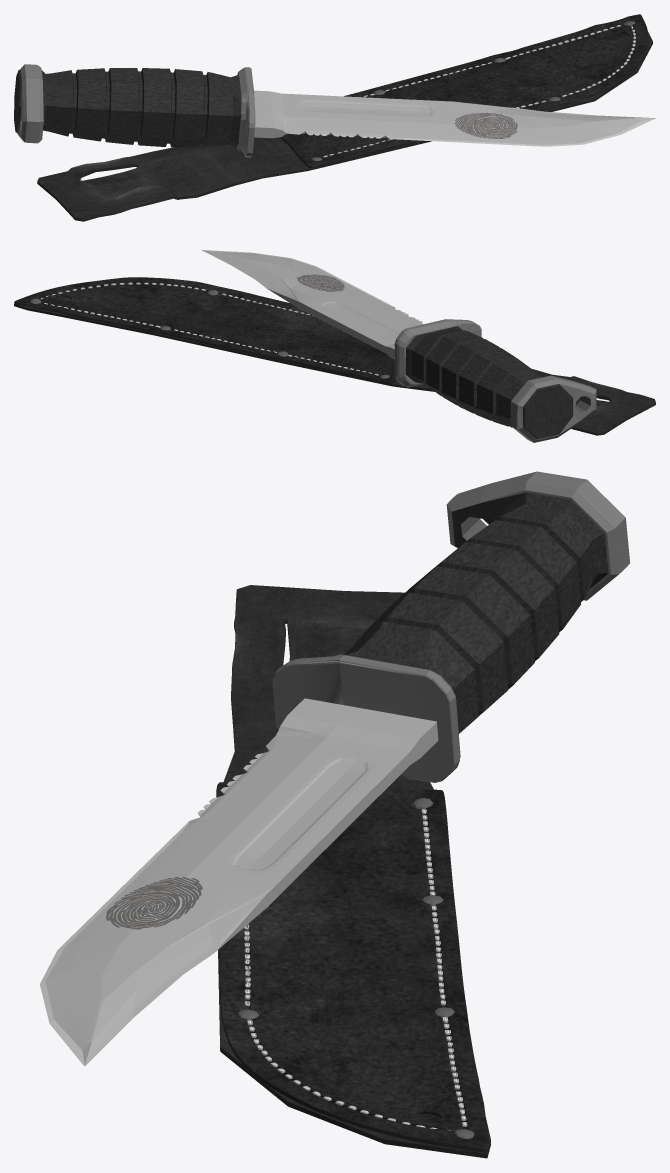
File: Fingerprints.gltf
The picture shows the model from 3 angles, top to bottom: view 1: azimuth 30°, elevation 25°; view 2: azimuth 150°, elevation 25°; view 3: azimuth 270°, elevation 25°; orthographic projection. The views are drawn at different scales.
Parts seen in each view (by area): view 1: KA-BAR_USMC_black_knife.001, KA-BAR_USMC_black_knife, Fingerprint; view 2: KA-BAR_USMC_black_knife, KA-BAR_USMC_black_knife.001, Fingerprint; view 3: KA-BAR_USMC_black_knife.001, KA-BAR_USMC_black_knife, Fingerprint.
Boxes of the visible parts, x1,y1,x2,y2 form: KA-BAR_USMC_black_knife.001: [14, 64, 655, 157]; KA-BAR_USMC_black_knife: [37, 14, 652, 221]; Fingerprint: [455, 112, 517, 138]; KA-BAR_USMC_black_knife: [14, 277, 655, 435]; KA-BAR_USMC_black_knife.001: [202, 250, 596, 442]; Fingerprint: [296, 274, 344, 291]; KA-BAR_USMC_black_knife.001: [40, 471, 629, 1065]; KA-BAR_USMC_black_knife: [216, 585, 490, 1158]; Fingerprint: [106, 877, 202, 929].
Bounding box in the file's own units: 6.08 × 0.7774 × 2.67.
Materials: 10 (5 with a texture image).
